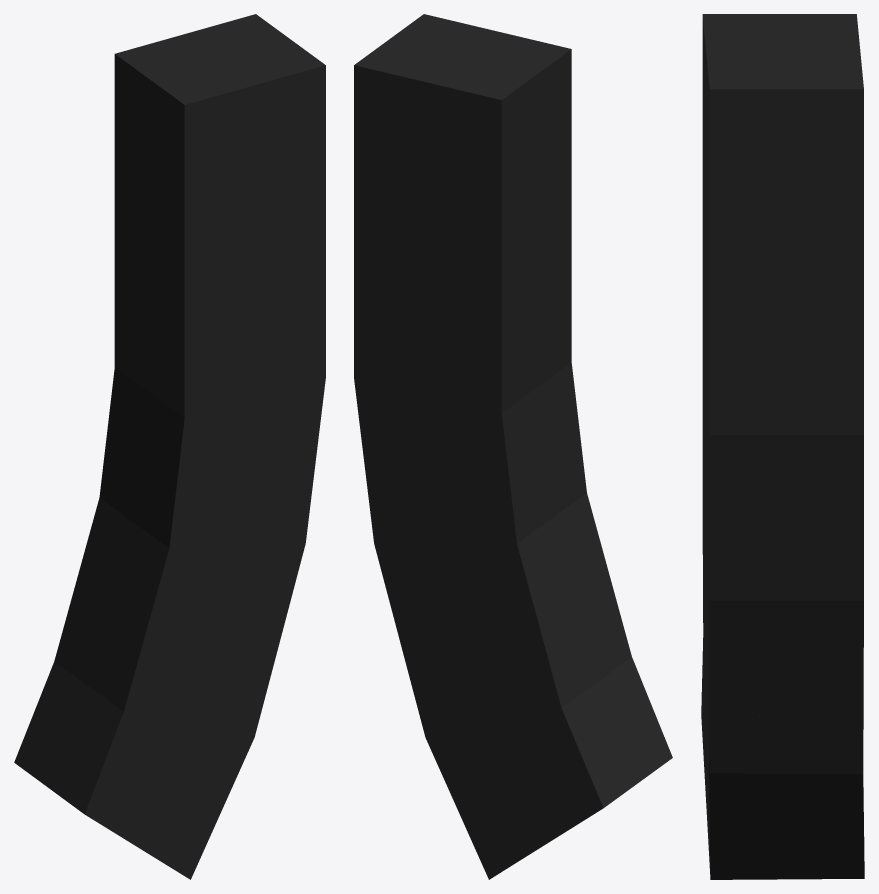
Rendered from smg_mag.glb.
3 views of the same model, side by side, from view 1: azimuth 30°, elevation 25°; view 2: azimuth 150°, elevation 25°; view 3: azimuth 270°, elevation 25° (orthographic). The views are drawn at different scales.
Parts seen in each view (by area): view 1: Cube; view 2: Cube; view 3: Cube.
Boxes of the visible parts, <box> form: Cube: <box>14,14,325,879</box>; Cube: <box>354,14,672,879</box>; Cube: <box>701,14,864,879</box>.
Size of the model in its own units: 0.5516 by 1.68 by 0.288.
Materials: 1 (1 with a texture image).
